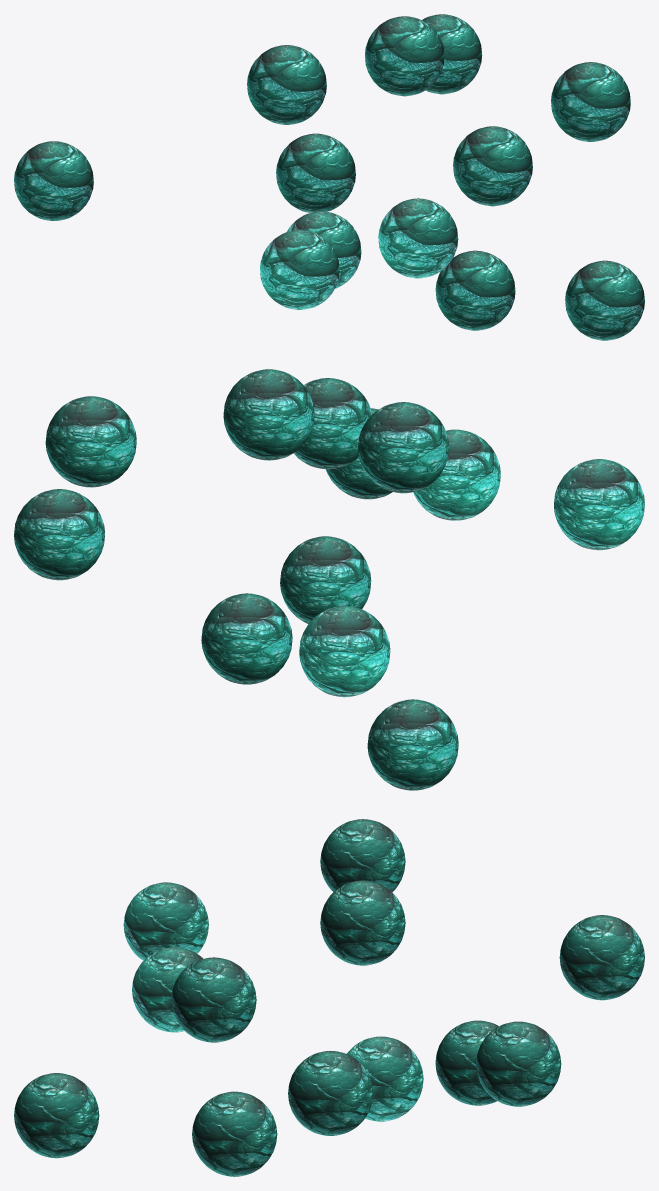
Rendered from modello4.glb.
3 views of the same model, one above another, from view 1: azimuth 30°, elevation 25°; view 2: azimuth 150°, elevation 25°; view 3: azimuth 270°, elevation 25° (orthographic). The views are drawn at different scales.
Visible parts, largest first — view 1: Sphere (×12); view 2: Sphere (×12); view 3: Sphere (×12).
Part boxes in pixels (x1,y1,x2,y2): Sphere (×12): (14, 14, 644, 340); Sphere (×12): (14, 369, 644, 790); Sphere (×12): (14, 819, 644, 1176).
Size of the model in its own units: 13.81 by 7.32 by 14.79.
8 materials, 8 textured.
